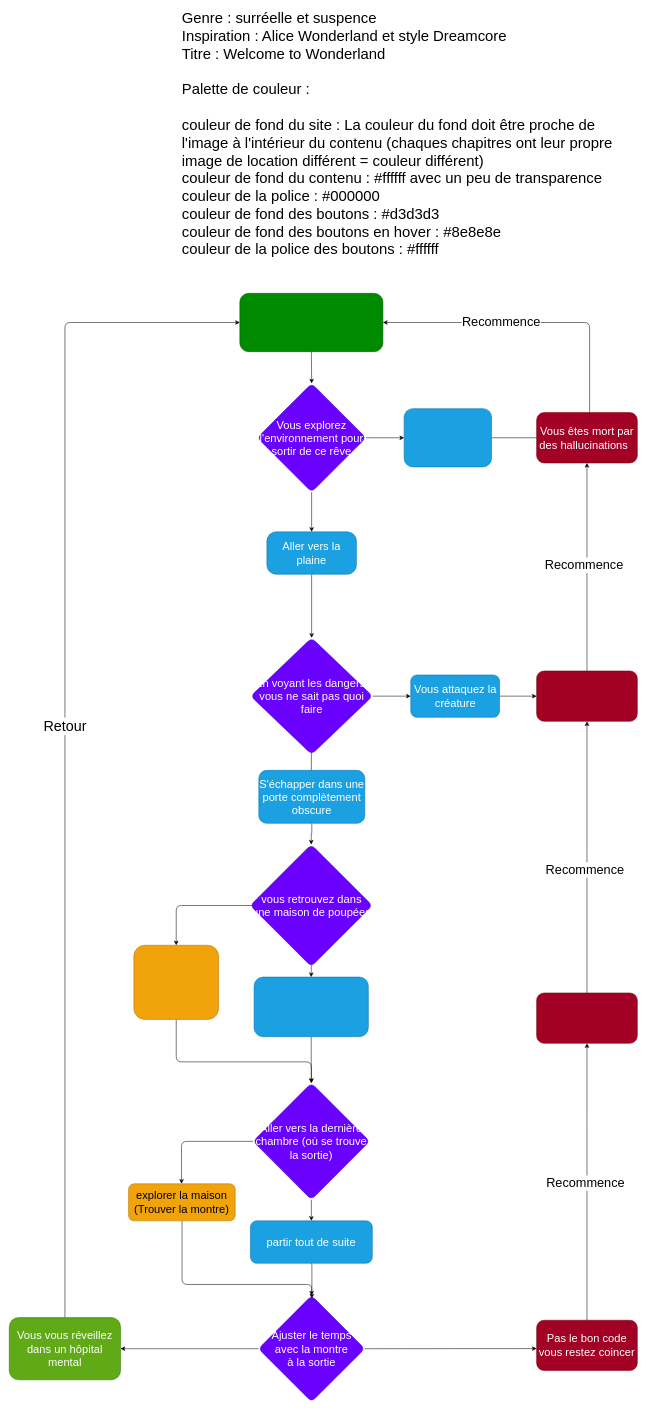
Image size: 647x1411. Some labels were removed from this diagram. Each missing label, with the centre of its shape:
Aller vers la forêt suspicieuse: (x=448, y=437)
buver le thé entendre une voix = le code: (x=176, y=982)
Explorer la "cuisine": (x=311, y=1007)
Réveille dans un monde surréaliste: (x=311, y=322)
Vous ne sentez plus rien et vous tomber dans le noir: (x=586, y=695)
Vous êtes coincé dans ce rêve: (x=586, y=1017)
